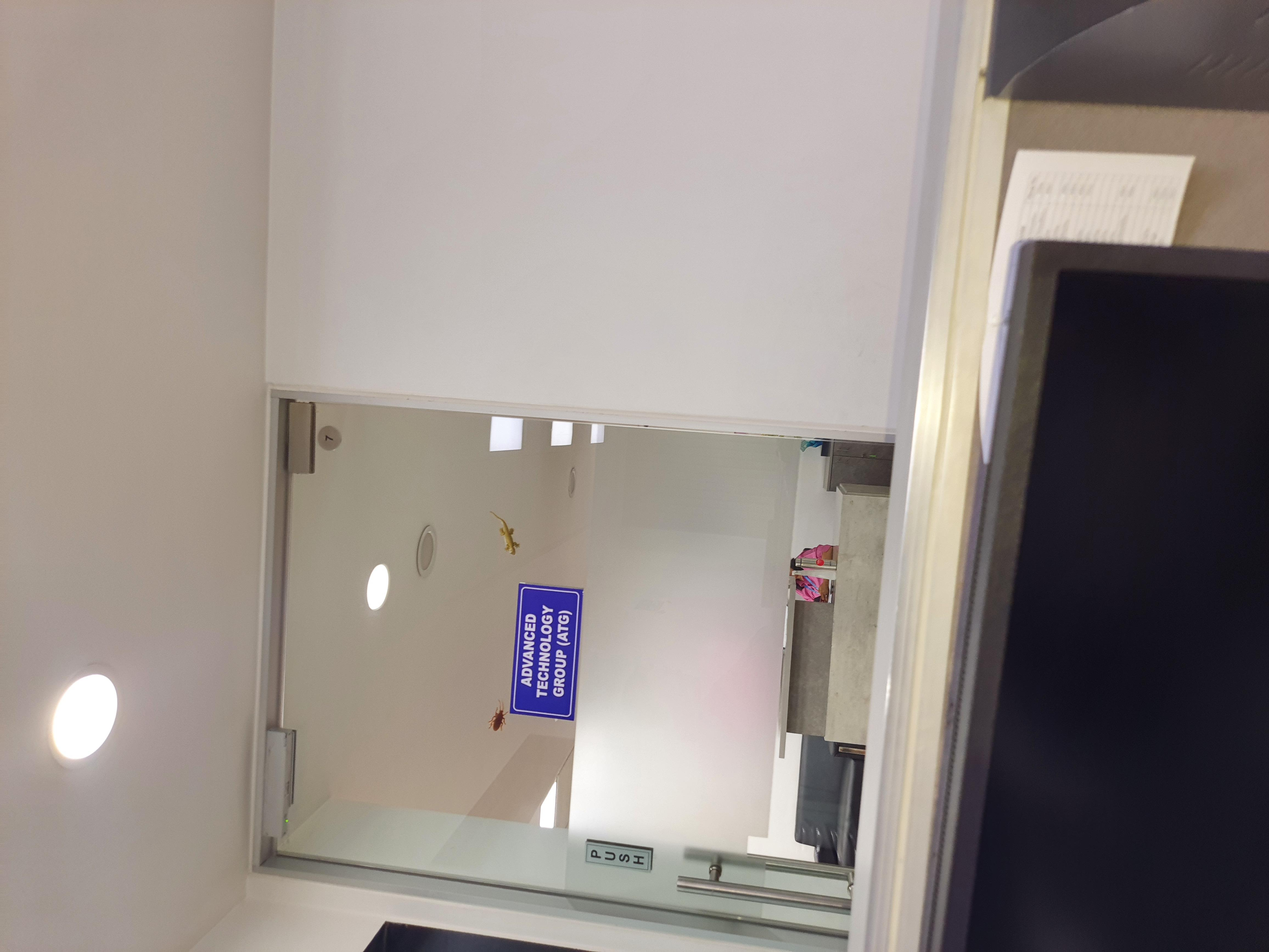cockroach: (279, 361, 340, 382)
lizard: (513, 367, 589, 400)
